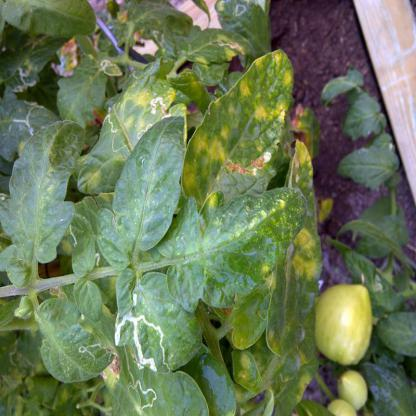Tomato mold leaf: (156, 186, 316, 315), (184, 45, 300, 220), (1, 99, 96, 278), (102, 111, 193, 259), (32, 292, 119, 390)
